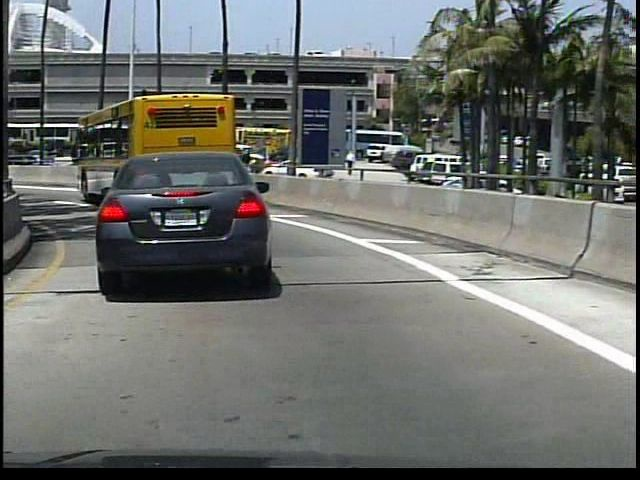person: (342, 148, 356, 179), (240, 147, 252, 179)
